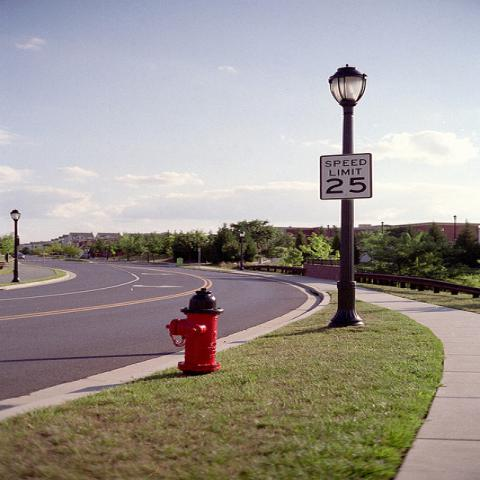car: (18, 253, 25, 259)
